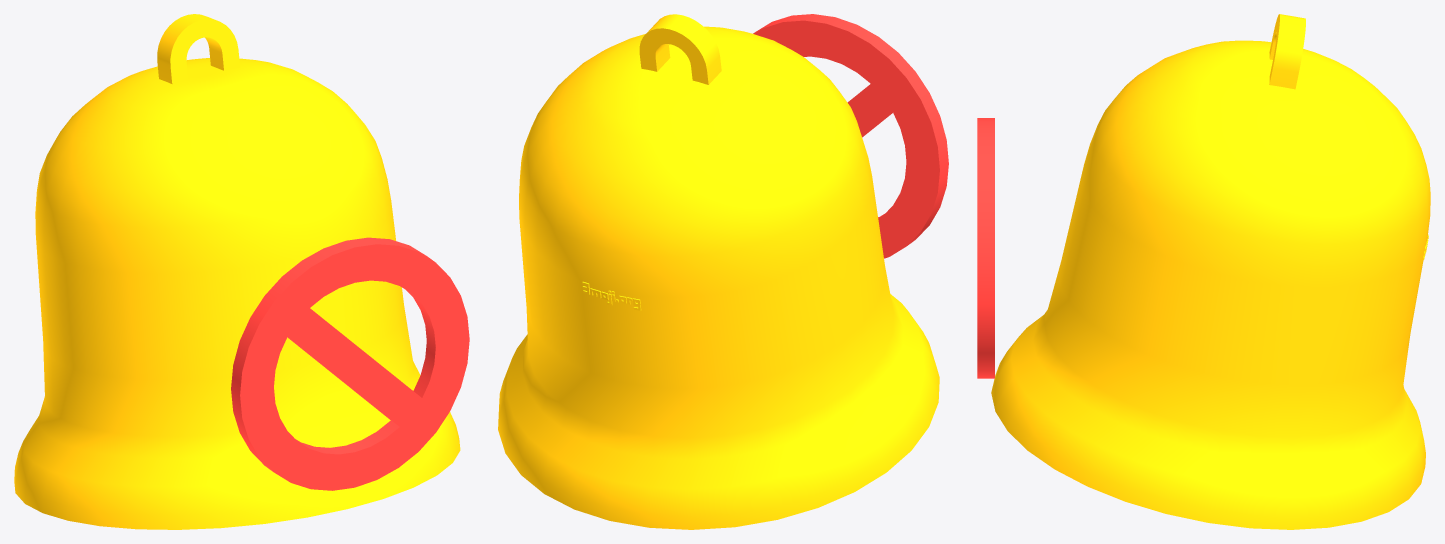
File: bell_with_slash.gltf
The picture shows the model from 3 angles, left to right: view 1: azimuth 30°, elevation 25°; view 2: azimuth 150°, elevation 25°; view 3: azimuth 270°, elevation 25°; orthographic projection.
Visible parts, largest first — view 1: Cylinder.492; view 2: Cylinder.492; view 3: Cylinder.492.
Boxes of the visible parts, box(x1,y1,x2,y2) form: Cylinder.492: box(14, 14, 469, 529); Cylinder.492: box(498, 14, 948, 529); Cylinder.492: box(977, 14, 1430, 529).
Bounding box in the file's own units: 1.79 × 2.01 × 1.84.
1 material, 1 textured.
